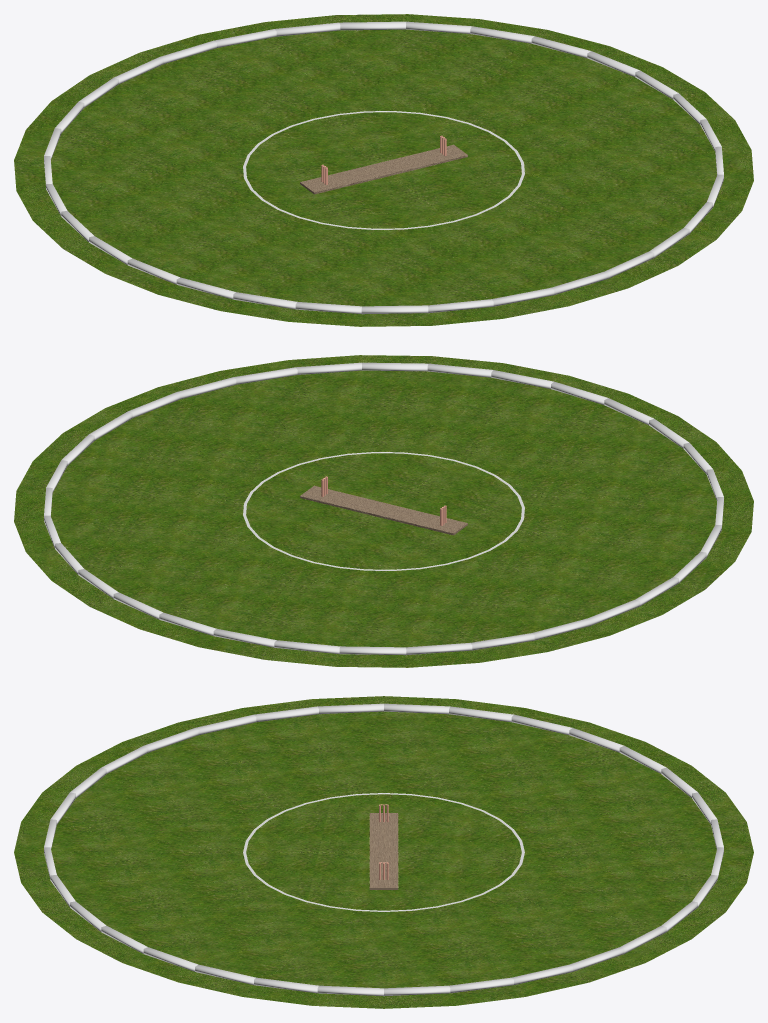
File: Cricket Field.fbx
3 renders of one model, top to bottom at view 1: azimuth 30°, elevation 25°; view 2: azimuth 150°, elevation 25°; view 3: azimuth 270°, elevation 25°, orthographic.
Visible parts, largest first — view 1: Field, Playing area Boundries.001, Cube, Playing area Boundries; view 2: Field, Playing area Boundries.001, Cube, Playing area Boundries; view 3: Field, Playing area Boundries.001, Cube, Playing area Boundries.
Boxes of the visible parts, bbox=[...] form: Field: bbox=[14, 14, 753, 326]; Playing area Boundries.001: bbox=[44, 21, 723, 314]; Cube: bbox=[300, 144, 467, 193]; Playing area Boundries: bbox=[243, 111, 524, 229]; Field: bbox=[14, 355, 753, 667]; Playing area Boundries.001: bbox=[44, 362, 723, 655]; Cube: bbox=[300, 485, 467, 534]; Playing area Boundries: bbox=[243, 452, 524, 570]; Field: bbox=[14, 696, 753, 1008]; Playing area Boundries.001: bbox=[44, 703, 723, 996]; Cube: bbox=[370, 813, 397, 889]; Playing area Boundries: bbox=[243, 793, 524, 911].
Size of the model in its own units: 1253 by 40.54 by 1253.
10 materials, 2 textured.
